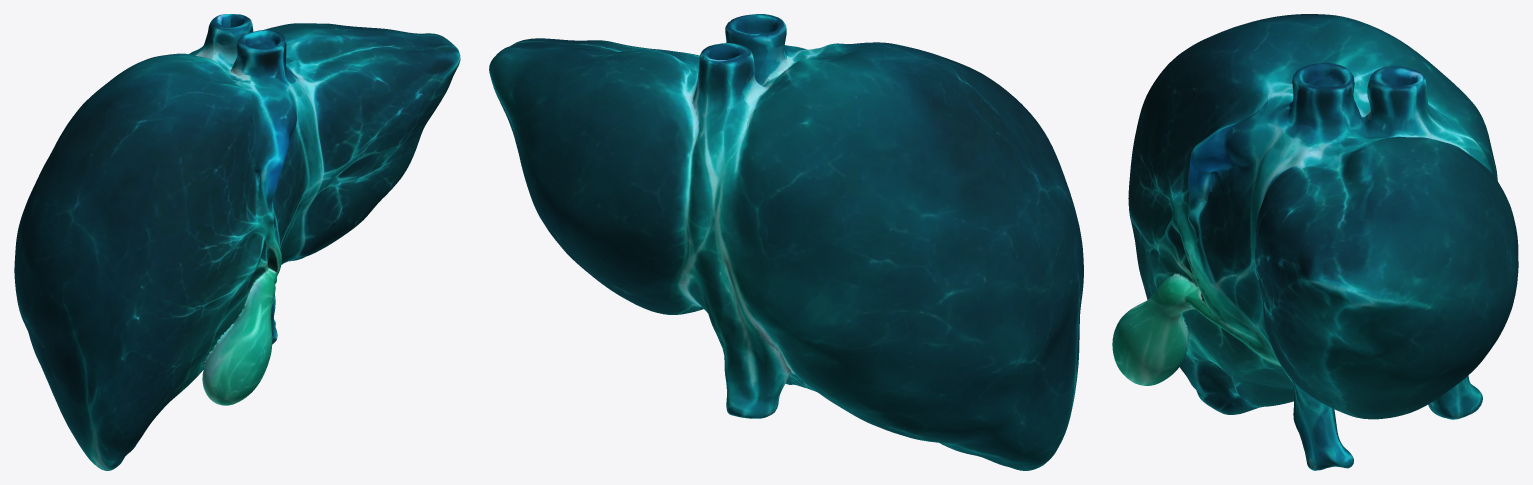
File: liver.glb
The picture shows the model from 3 angles, left to right: view 1: azimuth 30°, elevation 25°; view 2: azimuth 150°, elevation 25°; view 3: azimuth 270°, elevation 25°; orthographic projection. The views are drawn at different scales.
Parts seen in each view (by area): view 1: textured_mesh.obj; view 2: textured_mesh.obj; view 3: textured_mesh.obj.
Boxes of the visible parts, bbox=[...] form: textured_mesh.obj: bbox=[14, 14, 460, 470]; textured_mesh.obj: bbox=[489, 14, 1083, 470]; textured_mesh.obj: bbox=[1112, 14, 1518, 470].
Bounding box in the file's own units: 1.99 × 1.51 × 1.21.
Materials: 1 (1 with a texture image).
